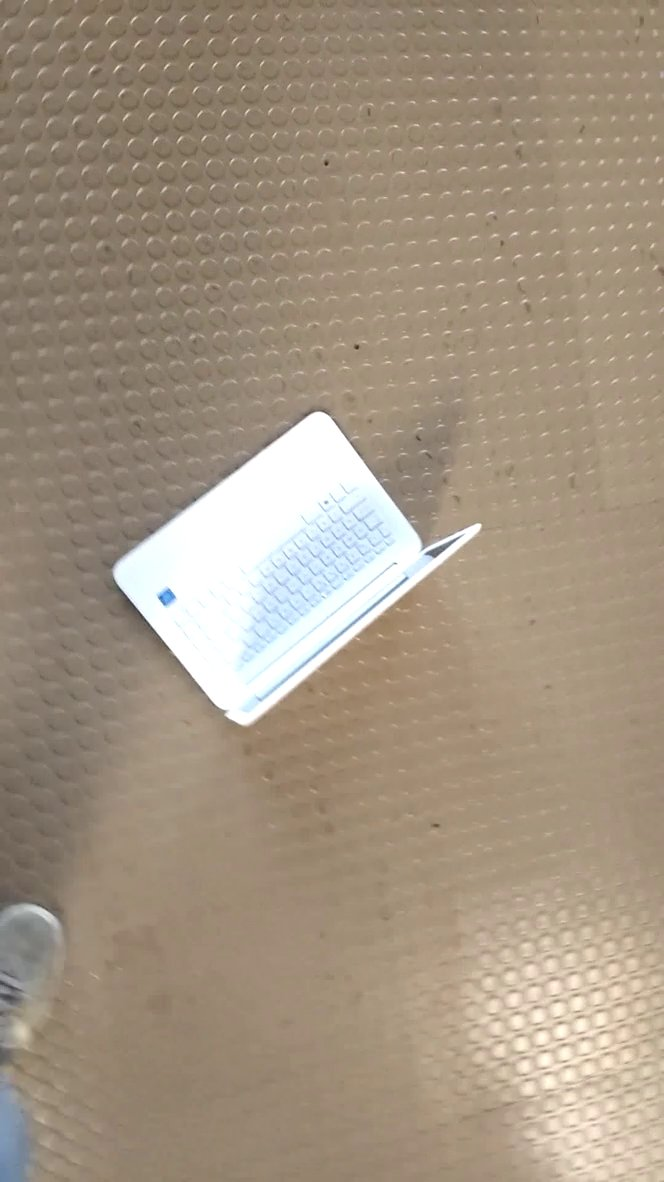laptop: (107, 403, 486, 752)
